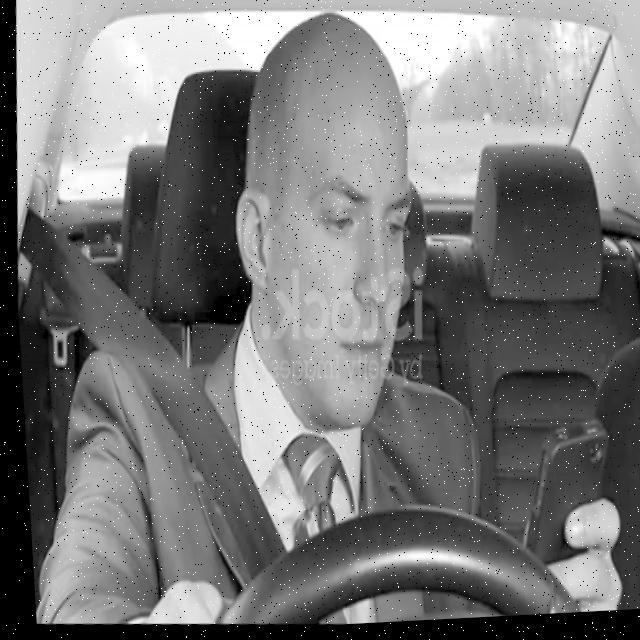PhoneCall: (516, 421, 609, 571)
